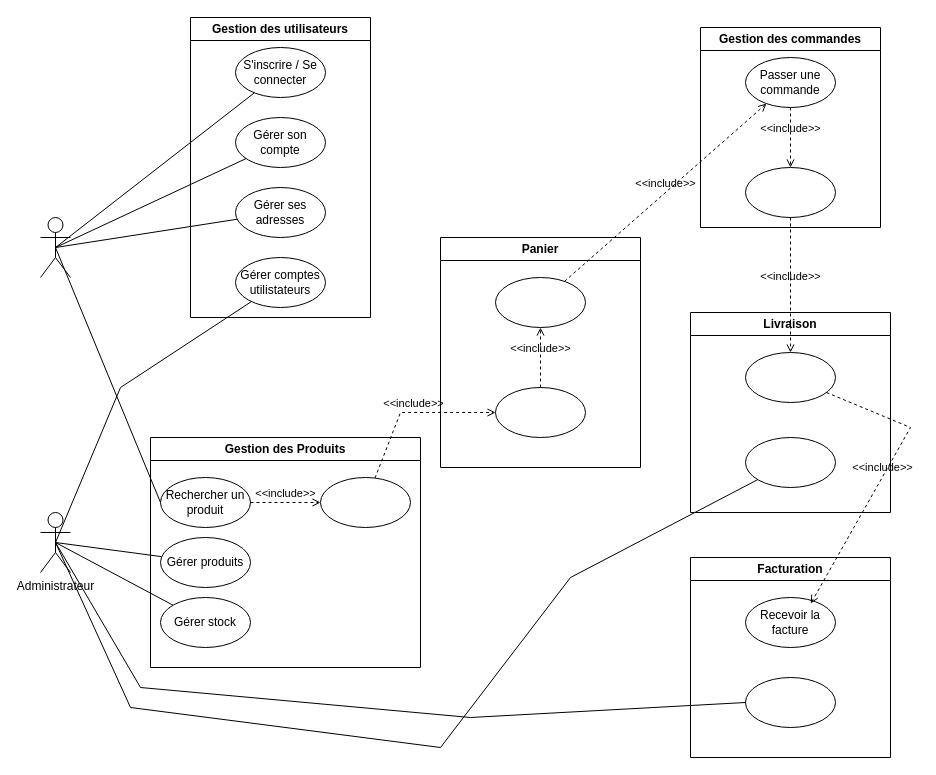
Image size: 936x775. Some labels were removed from this diagram. Here are the shapes that lost their labels. From the top down, the centre of each, then its label:
pixel 790 192: Consulter et gérer les commandes
pixel 55 247: Client
pixel 540 302: Gérer son panier
pixel 790 377: Suivre la livraison
pixel 540 412: Ajouter au panier
pixel 790 462: Gérer livraisons
pixel 365 502: Consulter les produits
pixel 790 702: Générer la facture
